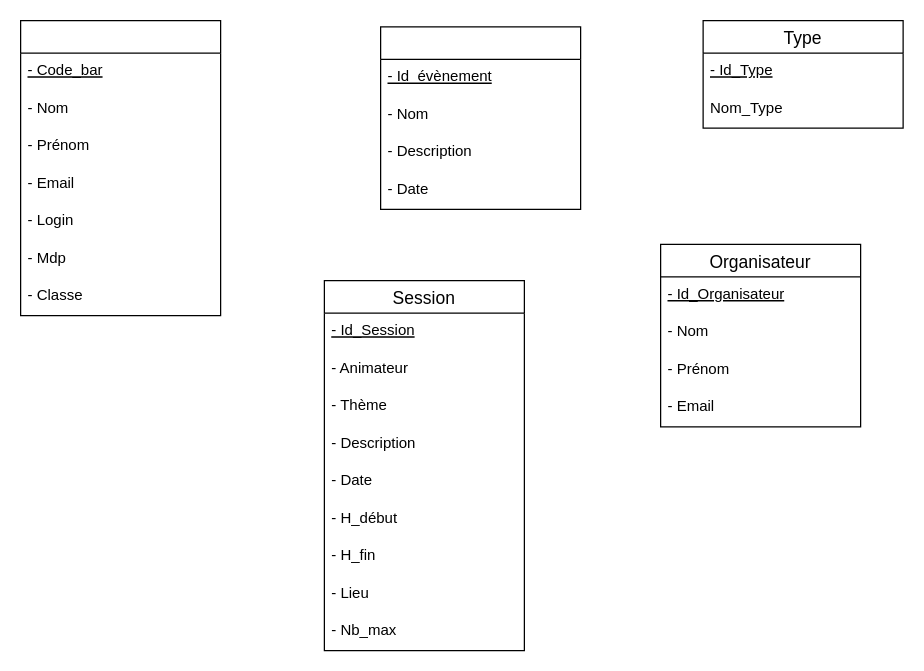
This 924x671 diagram has some shape labels left out. Here are the shapes that lost their labels. From the top down, the box of each, then its label:
(379, 26, 581, 209): Evènement
(19, 19, 221, 316): Utilisateur
